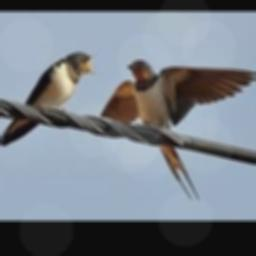Swallow: (98, 60, 256, 200), (0, 53, 94, 146)
